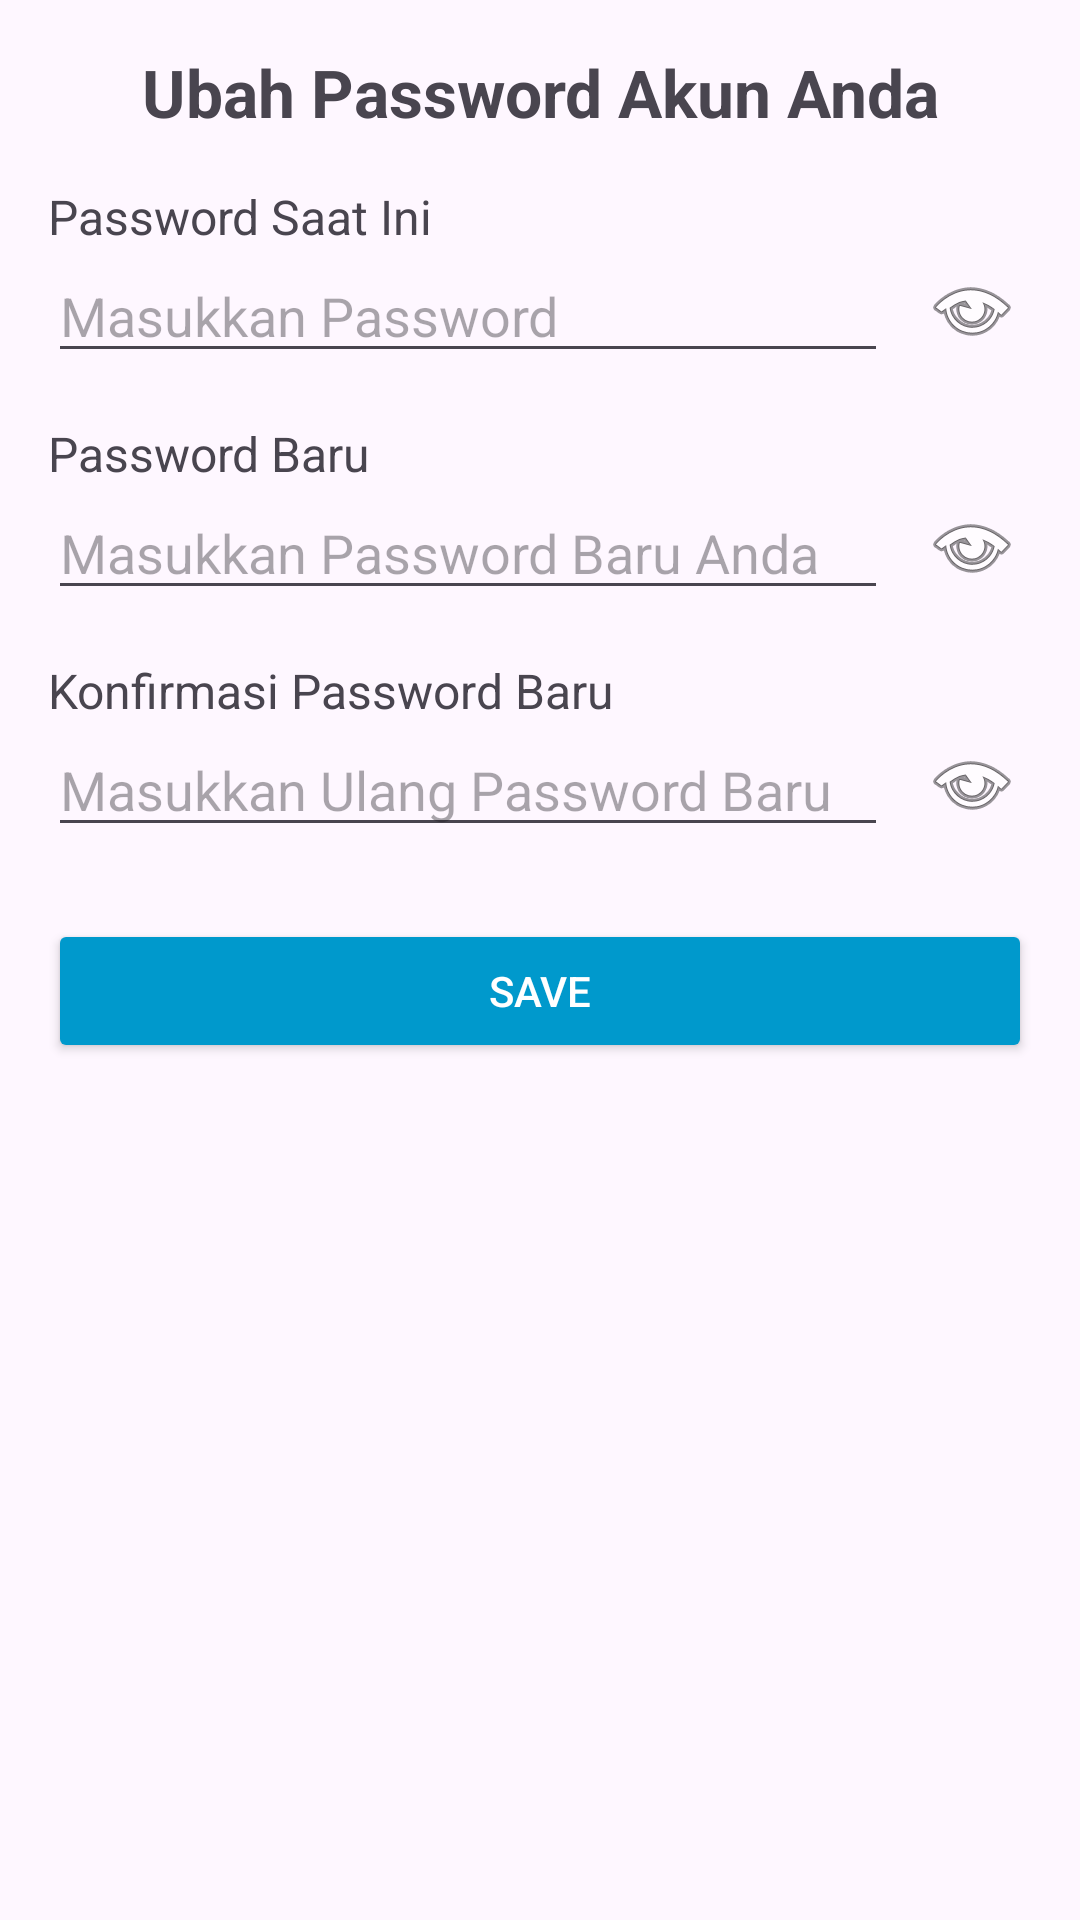

Point at icon controls on the screen. Image size 1080*1920, points as point (x, y).
view: point (972, 311), point (972, 548), point (972, 785)
